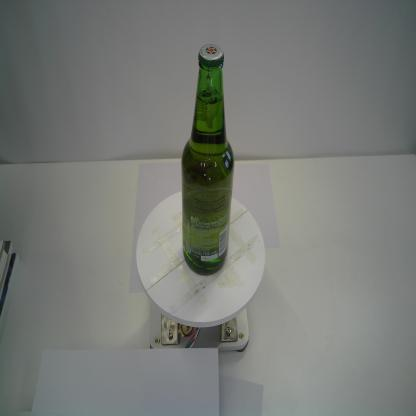Alcohol: (179, 42, 236, 275)
